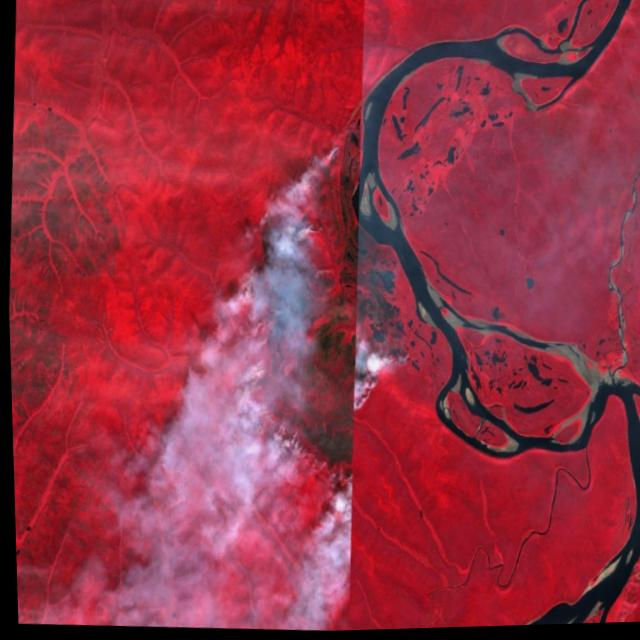fire: (231, 137, 391, 488)
